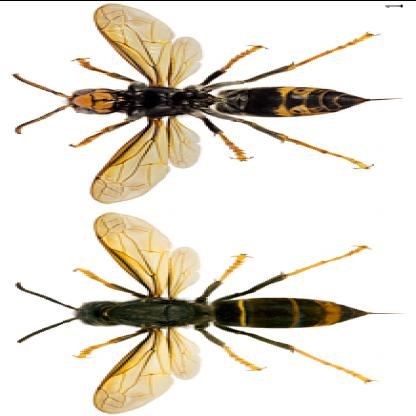asian: (21, 3, 401, 203), (19, 212, 391, 409)
